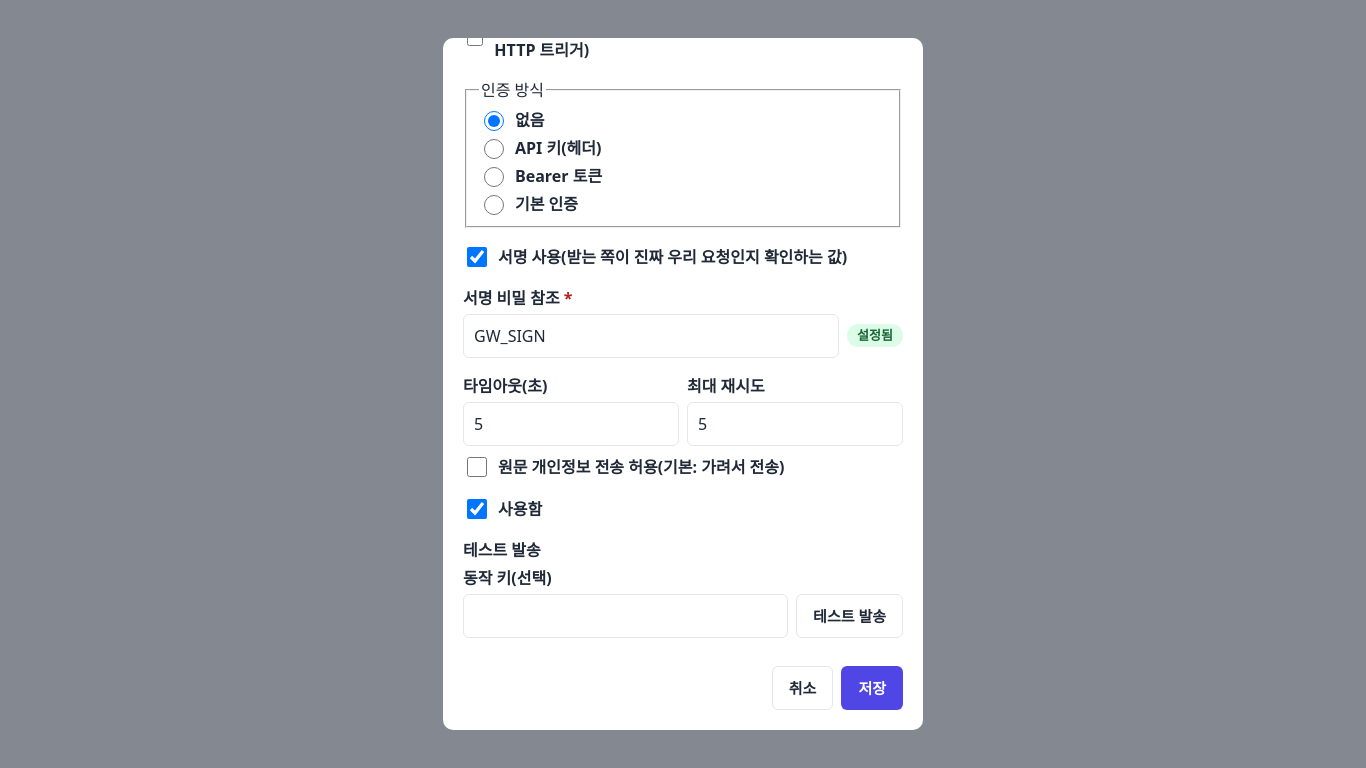
Test: WorkflowTargetEditModal › 원문 개인정보 전송 허용을 켜면 확인 필드가 나타나고, 이름과 다르면 저장이 막힌다
(page scrolled)
Click the checkbox labelled "원문 개인정보 전송 허용(기본: 가려서 전송)": (477, 466) [467,456,487,476]
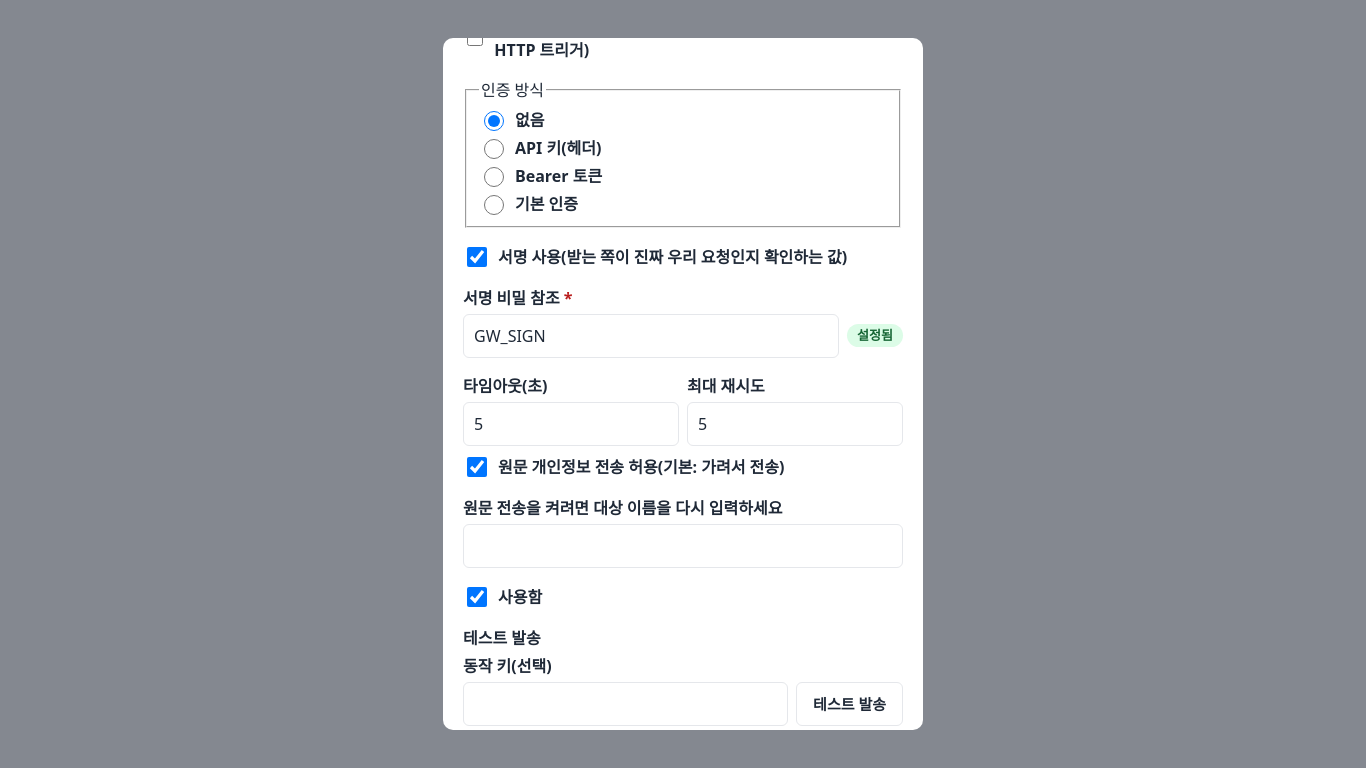
In the field labelled "원문 전송을 켜려면 대상 이름을 다시 입력하세요": (683, 546) [463,524,903,568], type "다른이름"
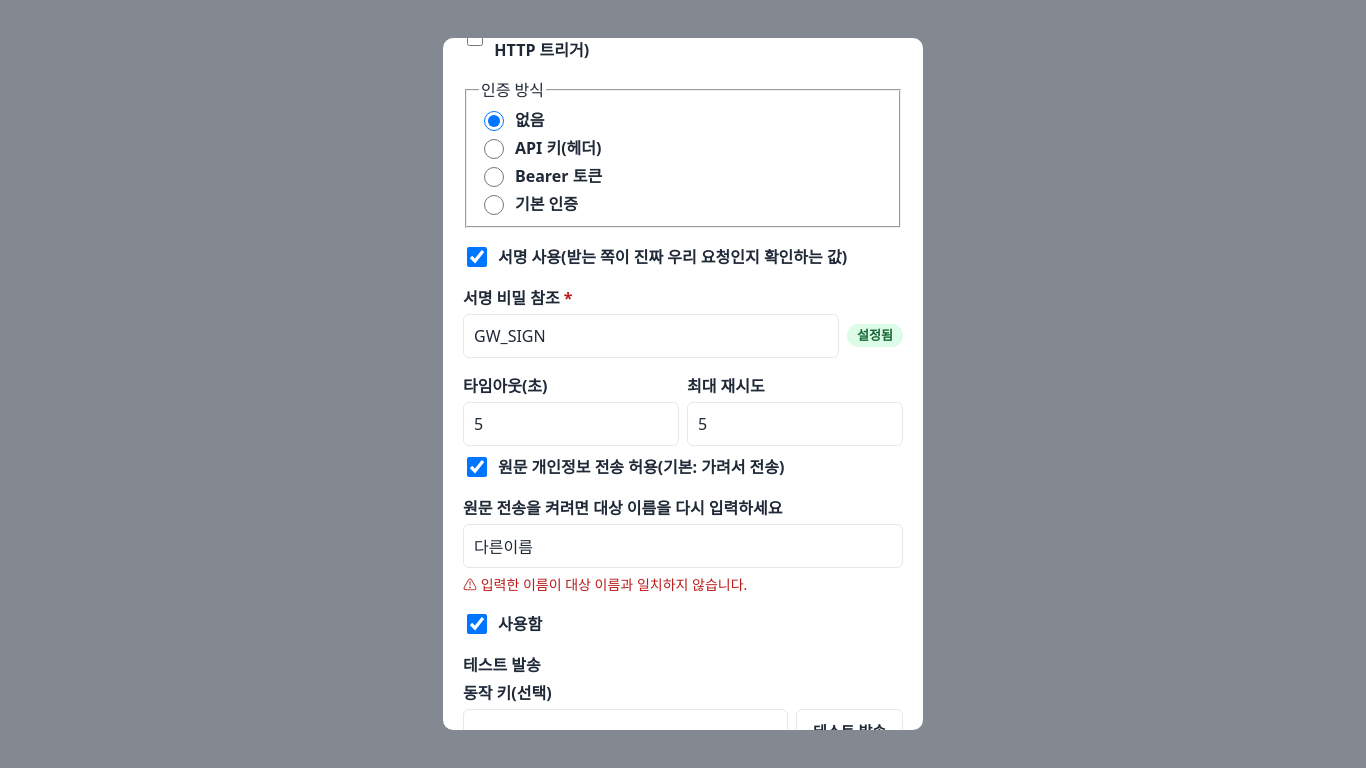
Check: the text "입력한 이름이 대상 이름과 일치하지 않습니다." is shown, box [481,574,747,594]
Replace the text in the field labelled "원문 전송을 켜려면 대상 이름을 다시 입력하세요" with "그룹웨어 결재 흐름": (683, 546) [463,524,903,568]
(page scrolled)
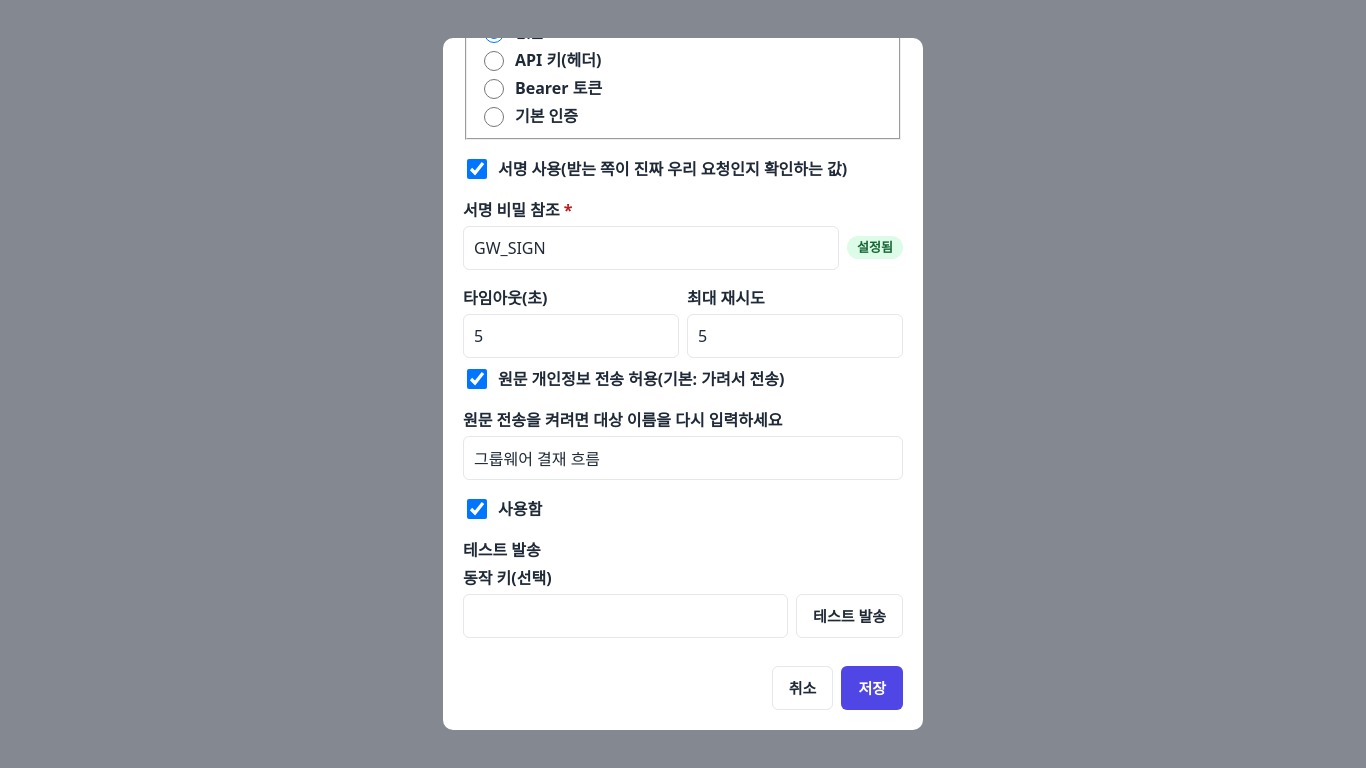
Check: the button "저장" is enabled, box [841,666,903,710]
